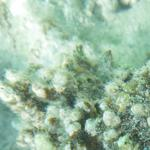dead: (3, 5, 147, 147)
